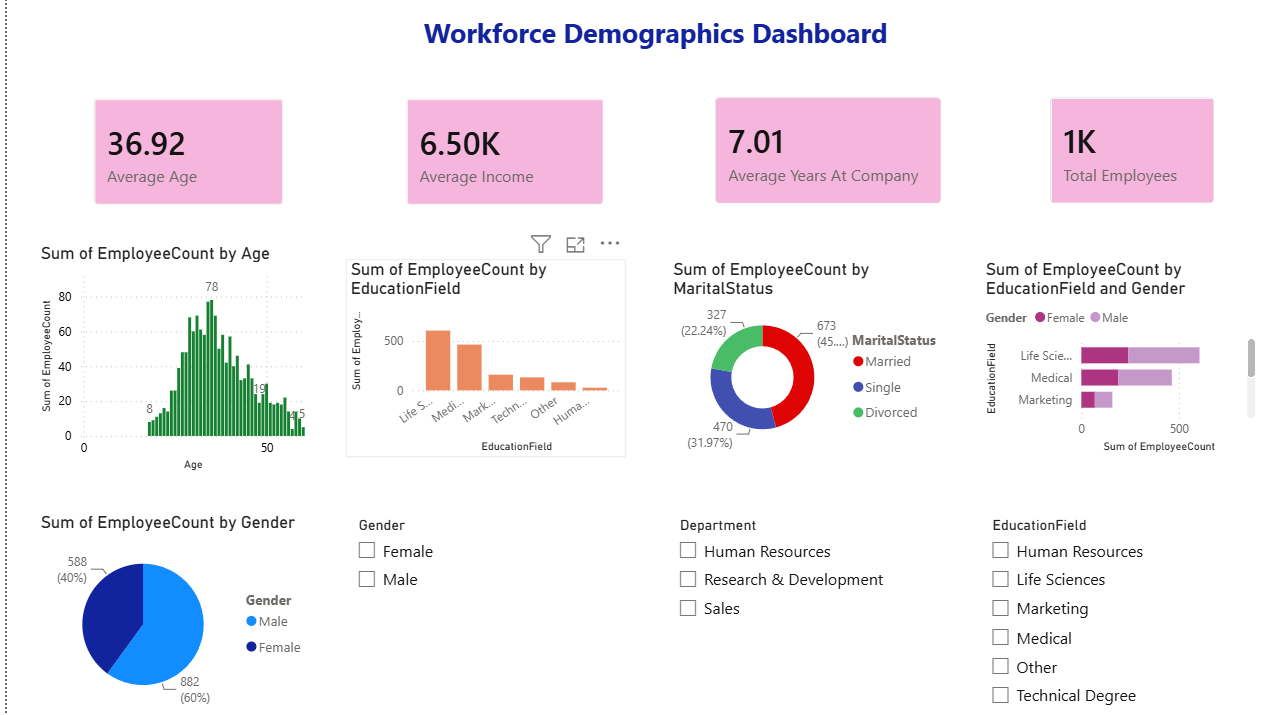

This screenshot's page, from the dashboard's own definition file:
{"tool":"powerbi","page":{"name":"Workforce Demographics","canvas":[1280,720],"ordinal":1},"visuals":[{"type":"textbox","box":[356.6,10.8,584.8,50.4],"z":0},{"type":"cardVisual","fields":{"Data":["WA_Fn-UseC_-HR-Employee-Attrition.Average Age"]},"box":[69.6,84.1,223.3,140.5],"z":1000},{"type":"cardVisual","fields":{"Data":["WA_Fn-UseC_-HR-Employee-Attrition.Average Income"]},"box":[383,84.1,231.7,140.5],"z":2000},{"type":"cardVisual","fields":{"Data":["WA_Fn-UseC_-HR-Employee-Attrition.Average Years At Company"]},"box":[691.6,82.9,260.6,140.5],"z":3000},{"type":"cardVisual","fields":{"Data":["WA_Fn-UseC_-HR-Employee-Attrition.Total Employees"]},"box":[1026.6,82.9,198.1,140.5],"z":4000},{"type":"clusteredColumnChart","fields":{"Category":["WA_Fn-UseC_-HR-Employee-Attrition.Age"],"Y":["Sum(WA_Fn-UseC_-HR-Employee-Attrition.EmployeeCount)"]},"box":[28.8,245,279.8,232.9],"z":5000},{"type":"pieChart","fields":{"Category":["WA_Fn-UseC_-HR-Employee-Attrition.Gender"],"Y":["Sum(WA_Fn-UseC_-HR-Employee-Attrition.EmployeeCount)"]},"box":[28.8,513.9,281,206.5],"z":6000},{"type":"columnChart","fields":{"Category":["WA_Fn-UseC_-HR-Employee-Attrition.EducationField"],"Y":["Sum(WA_Fn-UseC_-HR-Employee-Attrition.EmployeeCount)"]},"box":[338.6,261.8,279.8,198.1],"z":7000},{"type":"donutChart","fields":{"Category":["WA_Fn-UseC_-HR-Employee-Attrition.MaritalStatus"],"Y":["Sum(WA_Fn-UseC_-HR-Employee-Attrition.EmployeeCount)"]},"box":[661.6,261.8,279.8,198.1],"z":8000},{"type":"barChart","fields":{"Series":["WA_Fn-UseC_-HR-Employee-Attrition.Gender"],"Category":["WA_Fn-UseC_-HR-Employee-Attrition.EducationField"],"Y":["Sum(WA_Fn-UseC_-HR-Employee-Attrition.EmployeeCount)"]},"box":[973.8,261.8,279.8,198.1],"z":9000},{"type":"slicer","fields":{"Values":["WA_Fn-UseC_-HR-Employee-Attrition.Gender"]},"box":[338.6,513.9,279.8,206.5],"z":10000},{"type":"slicer","fields":{"Values":["WA_Fn-UseC_-HR-Employee-Attrition.EducationField"]},"box":[972.6,513.9,281,206.5],"z":11000},{"type":"slicer","fields":{"Values":["WA_Fn-UseC_-HR-Employee-Attrition.Department"]},"box":[660.4,513.9,281,206.5],"z":12000}]}

Visuals, with their boxes in screenshot pixels (x1, y1, x2, y2), scaled from the page's 1280x720 canvas onto the 1283x715 screenshot:
textbox: [left=357, top=11, right=944, bottom=61]
cardVisual - WA_Fn-UseC_-HR-Employee-Attrition.Average Age: [left=70, top=84, right=294, bottom=223]
cardVisual - WA_Fn-UseC_-HR-Employee-Attrition.Average Income: [left=384, top=84, right=616, bottom=223]
cardVisual - WA_Fn-UseC_-HR-Employee-Attrition.Average Years At Company: [left=693, top=82, right=954, bottom=222]
cardVisual - WA_Fn-UseC_-HR-Employee-Attrition.Total Employees: [left=1029, top=82, right=1228, bottom=222]
clusteredColumnChart - WA_Fn-UseC_-HR-Employee-Attrition.Age x Sum(WA_Fn-UseC_-HR-Employee-Attrition.EmployeeCount): [left=29, top=243, right=309, bottom=475]
pieChart - WA_Fn-UseC_-HR-Employee-Attrition.Gender x Sum(WA_Fn-UseC_-HR-Employee-Attrition.EmployeeCount): [left=29, top=510, right=311, bottom=714]
columnChart - WA_Fn-UseC_-HR-Employee-Attrition.EducationField x Sum(WA_Fn-UseC_-HR-Employee-Attrition.EmployeeCount): [left=339, top=260, right=620, bottom=457]
donutChart - WA_Fn-UseC_-HR-Employee-Attrition.MaritalStatus x Sum(WA_Fn-UseC_-HR-Employee-Attrition.EmployeeCount): [left=663, top=260, right=944, bottom=457]
barChart - WA_Fn-UseC_-HR-Employee-Attrition.Gender x WA_Fn-UseC_-HR-Employee-Attrition.EducationField: [left=976, top=260, right=1257, bottom=457]
slicer - WA_Fn-UseC_-HR-Employee-Attrition.Gender: [left=339, top=510, right=620, bottom=714]
slicer - WA_Fn-UseC_-HR-Employee-Attrition.EducationField: [left=975, top=510, right=1257, bottom=714]
slicer - WA_Fn-UseC_-HR-Employee-Attrition.Department: [left=662, top=510, right=944, bottom=714]
